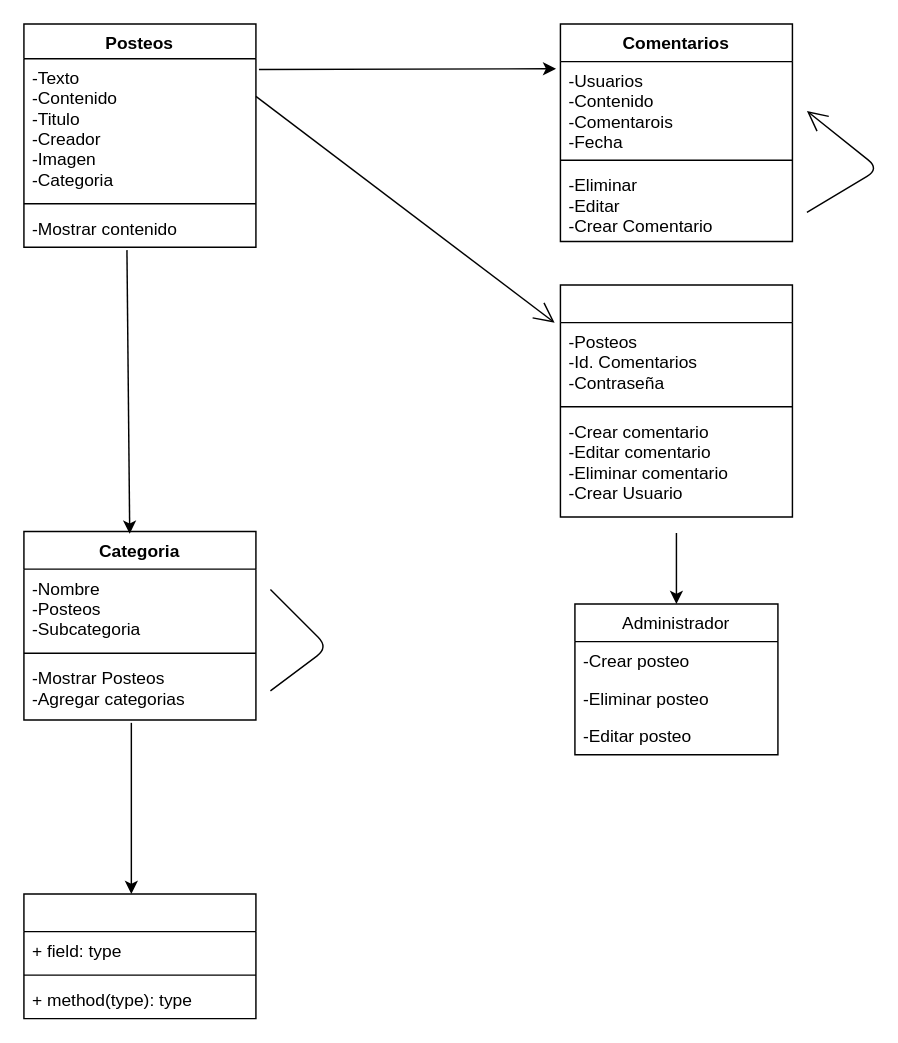
The diagram is 898 pixels wide and 1043 high, and some of its shapes have lost their labels. The box of each missing label's shape, as (x1, y1, x2, y2) in pixels:
Subcategoria: (22, 892, 256, 1019)
Usuarios: (559, 283, 792, 517)
